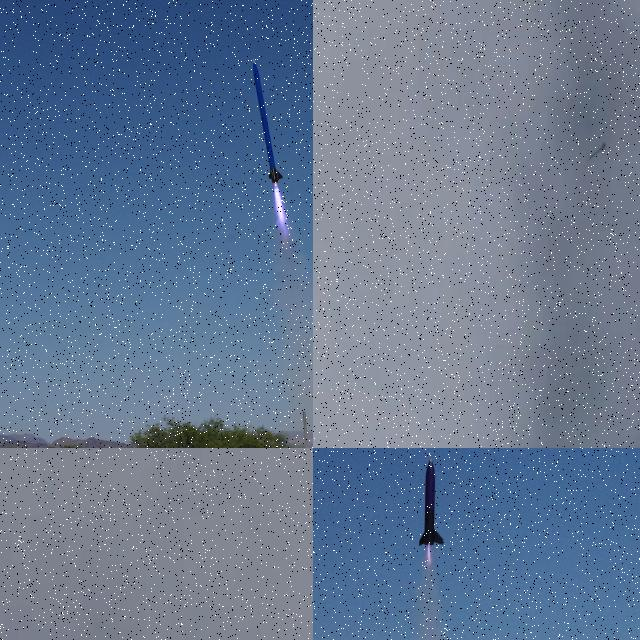Rocket: (252, 58, 284, 184), (419, 457, 444, 546), (589, 142, 606, 159)
